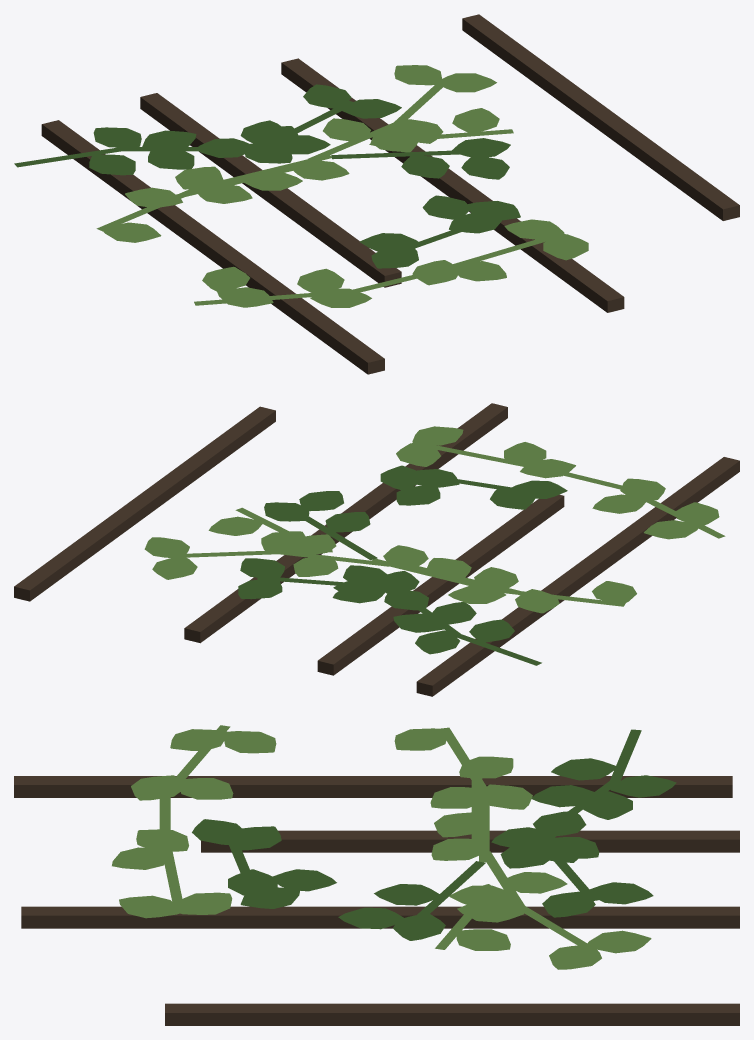
The model's file is A_WoodFrame09.fbx.
The picture shows the model from 3 angles, top to bottom: view 1: azimuth 30°, elevation 25°; view 2: azimuth 150°, elevation 25°; view 3: azimuth 270°, elevation 25°; orthographic projection. The views are drawn at different scales.
Parts seen in each view (by area): view 1: A_WoodFrame09; view 2: A_WoodFrame09; view 3: A_WoodFrame09.
Boxes of the visible parts, bbox=[...] form: A_WoodFrame09: bbox=[14, 14, 739, 374]; A_WoodFrame09: bbox=[14, 403, 739, 696]; A_WoodFrame09: bbox=[14, 725, 739, 1025].
Size of the model in its own units: 91.93 by 4.3 by 101.
